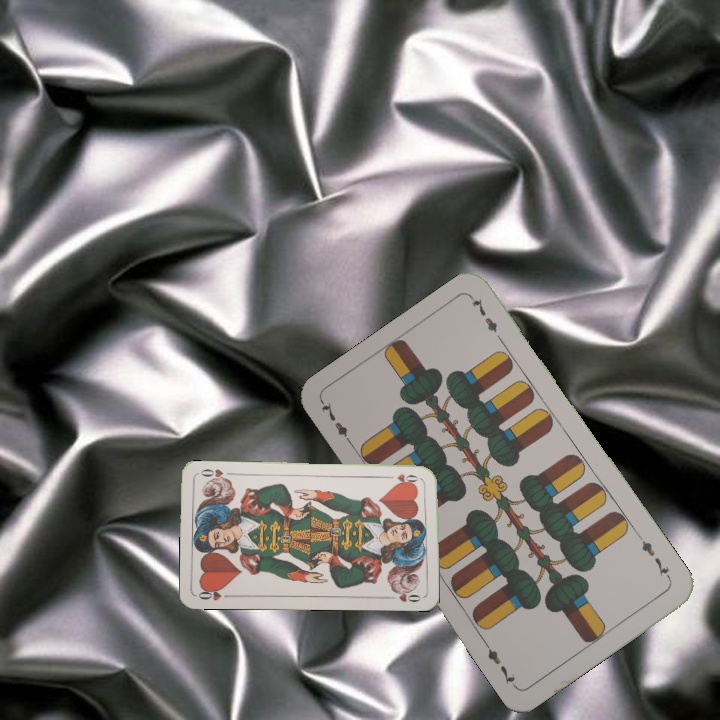E7: (317, 398, 357, 450), (636, 532, 674, 583)
HO: (195, 585, 234, 603), (384, 469, 424, 485)
